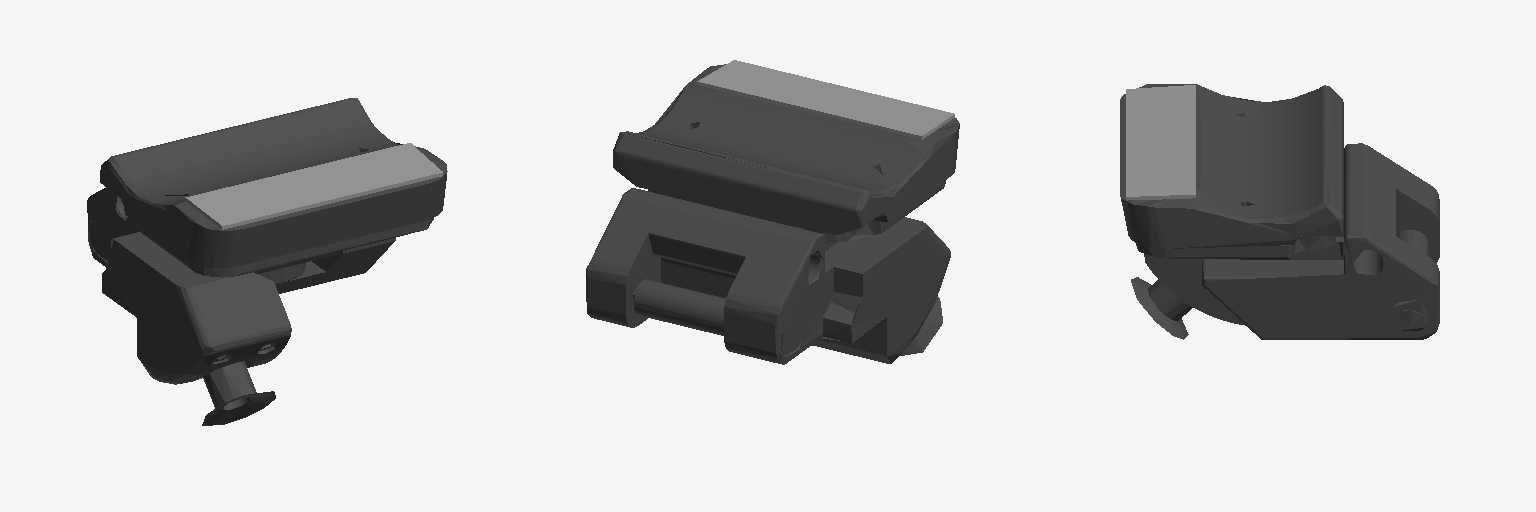
3 views of the same model, side by side, from view 1: azimuth 30°, elevation 25°; view 2: azimuth 150°, elevation 25°; view 3: azimuth 270°, elevation 25° (orthographic).
Visible parts, largest first — view 1: Left_Distal_Left_Distal.006, Left_Fingertip_Left_Distal.007; view 2: Left_Distal_Left_Distal.006, Left_Fingertip_Left_Distal.007; view 3: Left_Distal_Left_Distal.006, Left_Fingertip_Left_Distal.007.
Boxes of the visible parts, box(x1,y1,x2,y2) form: Left_Distal_Left_Distal.006: box(87, 98, 447, 425); Left_Fingertip_Left_Distal.007: box(185, 143, 442, 229); Left_Distal_Left_Distal.006: box(586, 64, 959, 364); Left_Fingertip_Left_Distal.007: box(697, 60, 954, 139); Left_Distal_Left_Distal.006: box(1120, 84, 1439, 339); Left_Fingertip_Left_Distal.007: box(1126, 85, 1195, 200).
Bounding box in the file's own units: 0.039 × 0.0346 × 0.0431.
Materials: 2 (1 with a texture image).